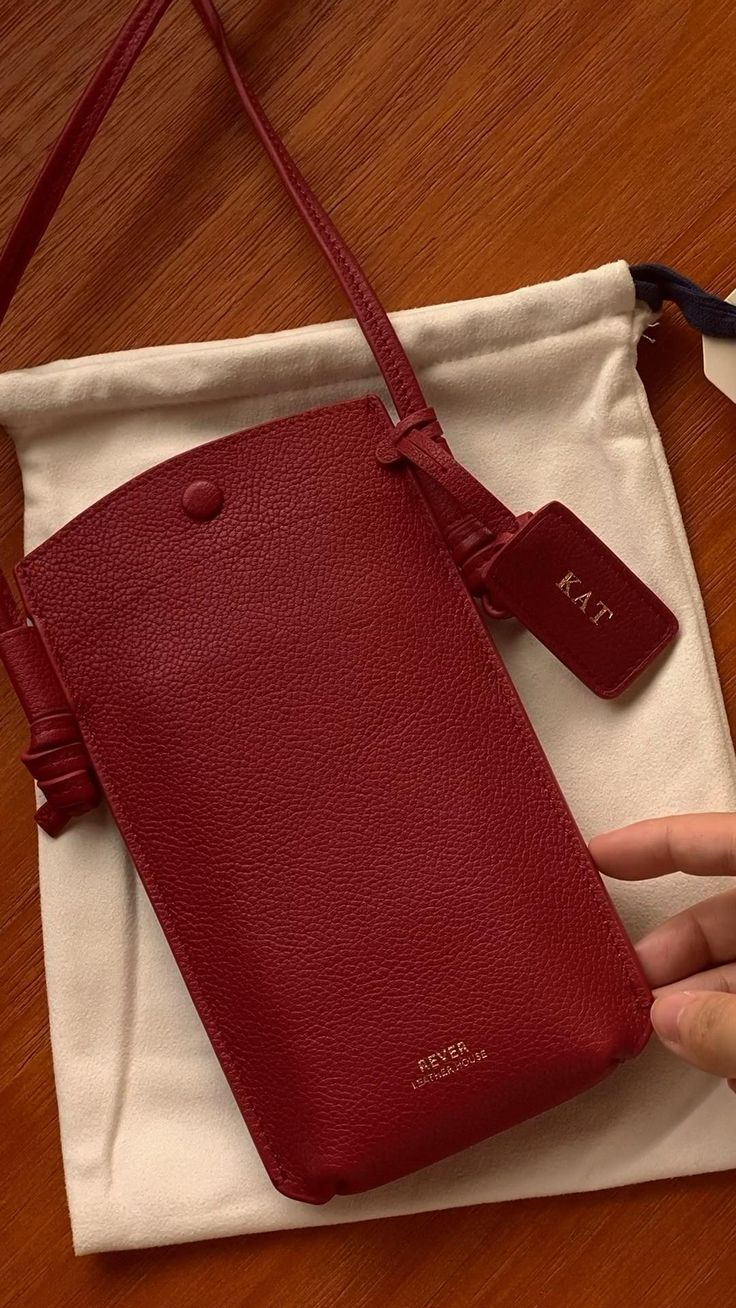cuero: (1, 1, 682, 1210)
